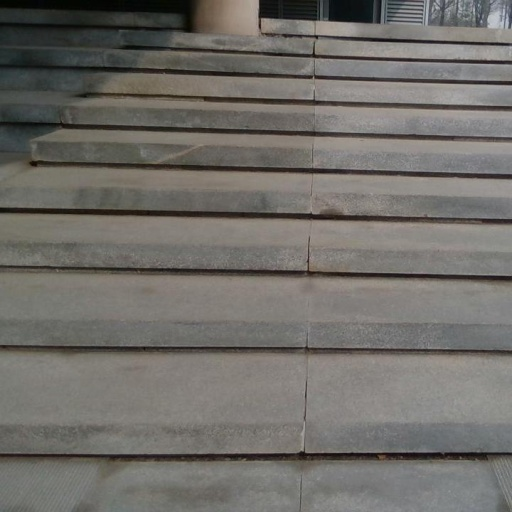Stairs: (0, 10, 512, 512)
